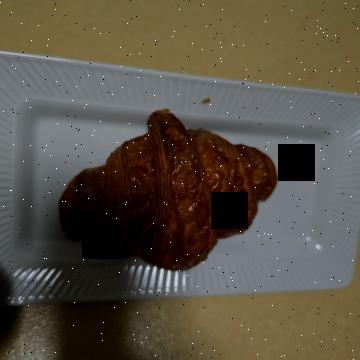croissant: (94, 66, 282, 308)
